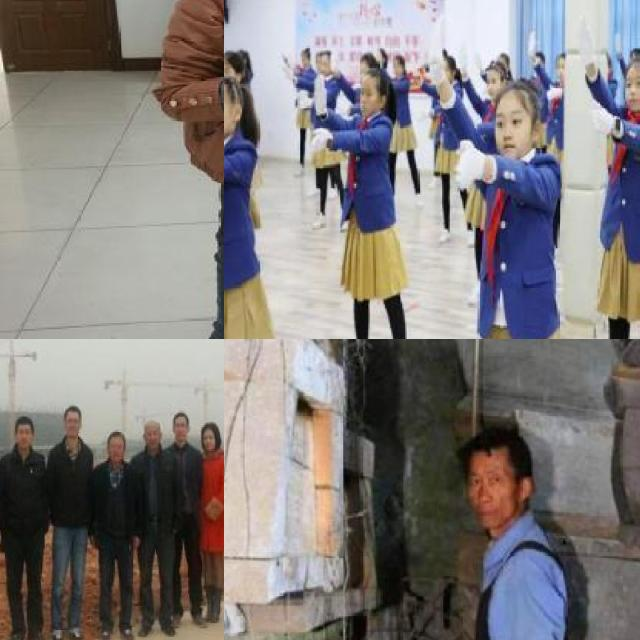face_nomask: (464, 455, 522, 530), (493, 107, 533, 156), (621, 68, 640, 110), (357, 82, 379, 118), (15, 425, 33, 447), (172, 420, 190, 440), (108, 440, 125, 460), (145, 429, 161, 450), (224, 94, 231, 136), (66, 416, 80, 437), (202, 432, 216, 448)
hand_glove: (448, 133, 482, 195), (424, 25, 445, 81), (573, 15, 597, 61), (587, 96, 611, 133), (525, 25, 539, 64), (313, 73, 328, 109), (311, 125, 327, 152), (456, 41, 468, 76), (610, 29, 622, 56), (471, 46, 484, 70), (545, 80, 558, 102), (280, 62, 294, 78), (296, 93, 308, 109)
head_nohelmet: (459, 423, 527, 464), (484, 80, 536, 106), (224, 48, 248, 70), (358, 51, 384, 69), (480, 61, 507, 78), (224, 71, 243, 94), (359, 72, 387, 87), (108, 428, 126, 444), (144, 419, 162, 435), (200, 420, 218, 436), (171, 409, 190, 424), (62, 404, 82, 417), (15, 416, 32, 428), (633, 56, 640, 76)
person: (420, 18, 569, 339), (434, 416, 591, 640), (305, 67, 422, 339), (571, 13, 640, 339), (166, 0, 224, 339), (224, 67, 291, 339), (45, 404, 97, 640), (0, 416, 51, 640), (132, 415, 181, 640), (89, 424, 140, 640), (160, 408, 207, 634), (192, 415, 224, 630)
shoes: (206, 586, 224, 625), (305, 211, 333, 235), (157, 613, 179, 637), (187, 602, 207, 628), (117, 619, 138, 640), (434, 223, 453, 246), (68, 622, 92, 640), (138, 616, 158, 636), (96, 623, 117, 640), (25, 626, 49, 640), (47, 626, 69, 640), (3, 627, 24, 640)
